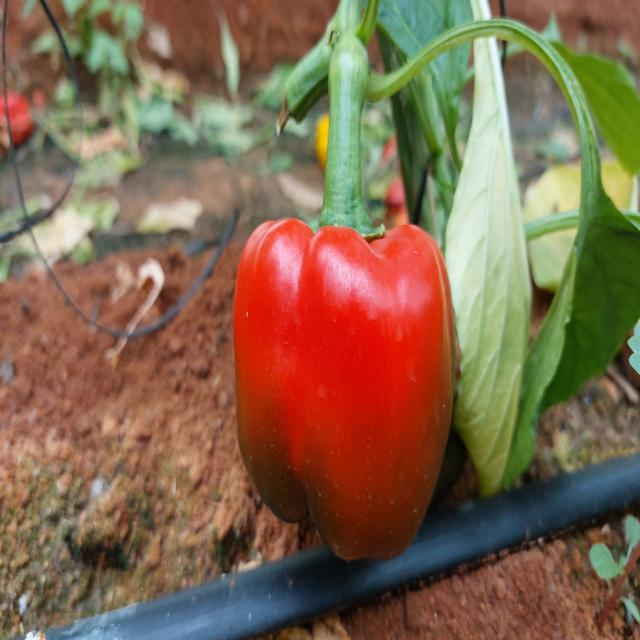Red-Ready-to-Harvest: (230, 216, 463, 570)
